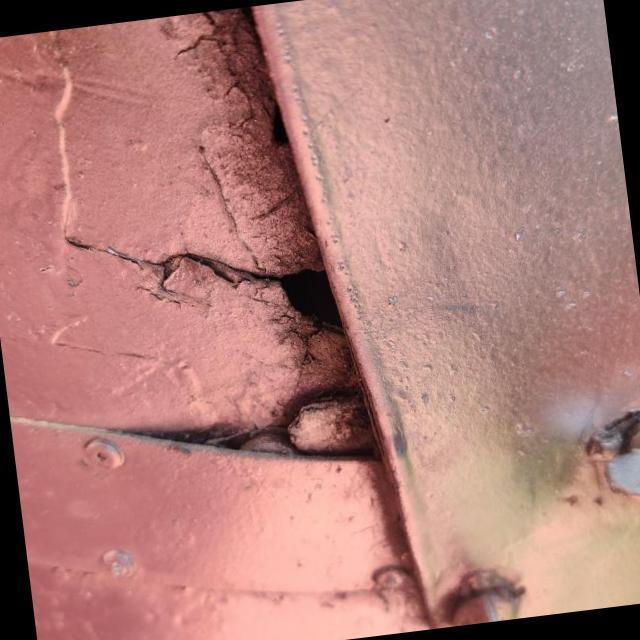Rupture: (52, 188, 370, 386)
